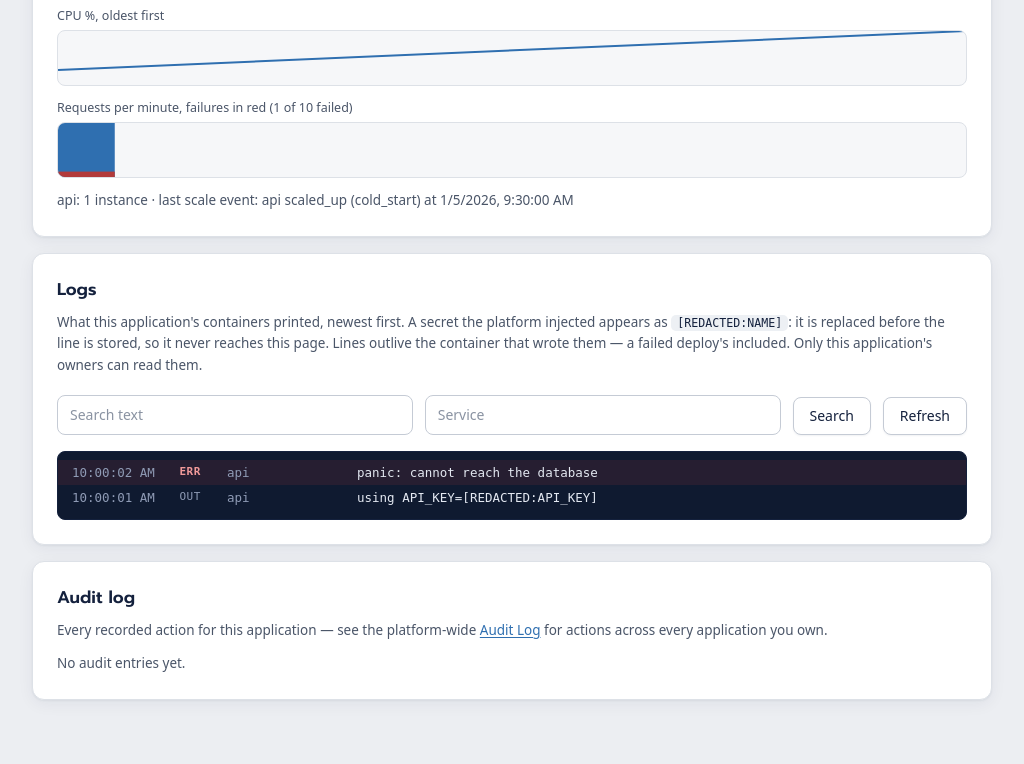
Test case: ApplicationDetail — Logs › asks the platform to search, rather than filtering the page it already has
(page scrolled)
Expected: the text "panic: cannot reach the database" is shown, [357,465,598,480]
Type "panic" into the field named "Search log text".
click(235, 415); type("panic")  # box [57,395,413,435]
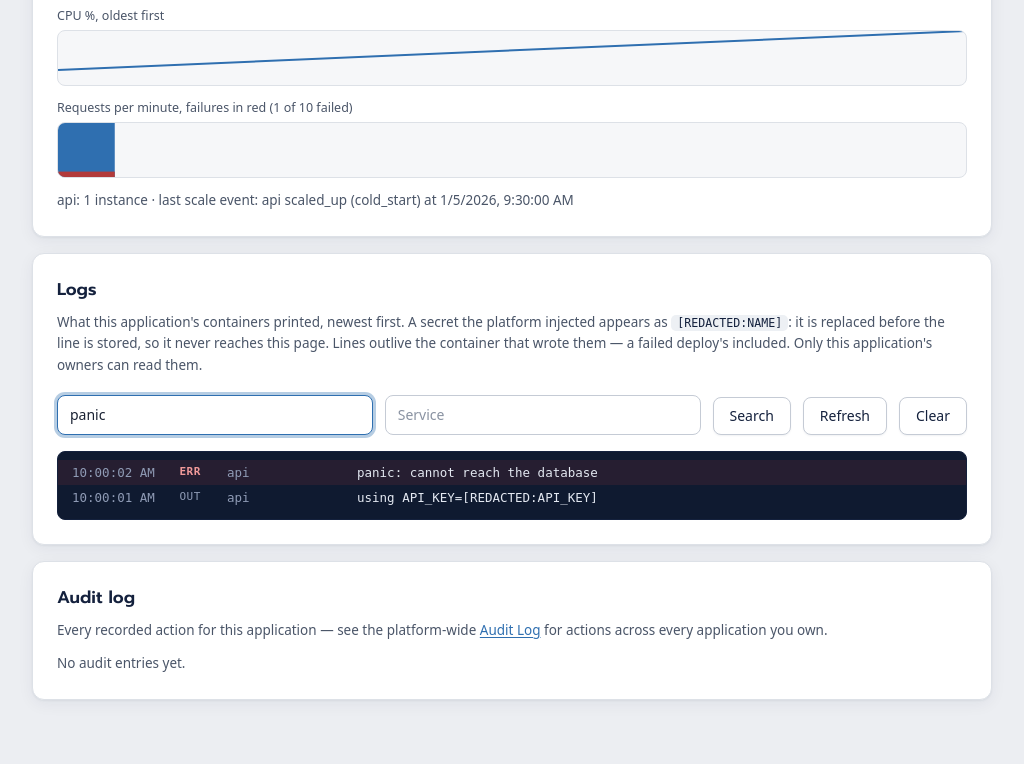
Click the button "Search".
click(752, 416)  # box [712,397,791,435]
(page scrolled)
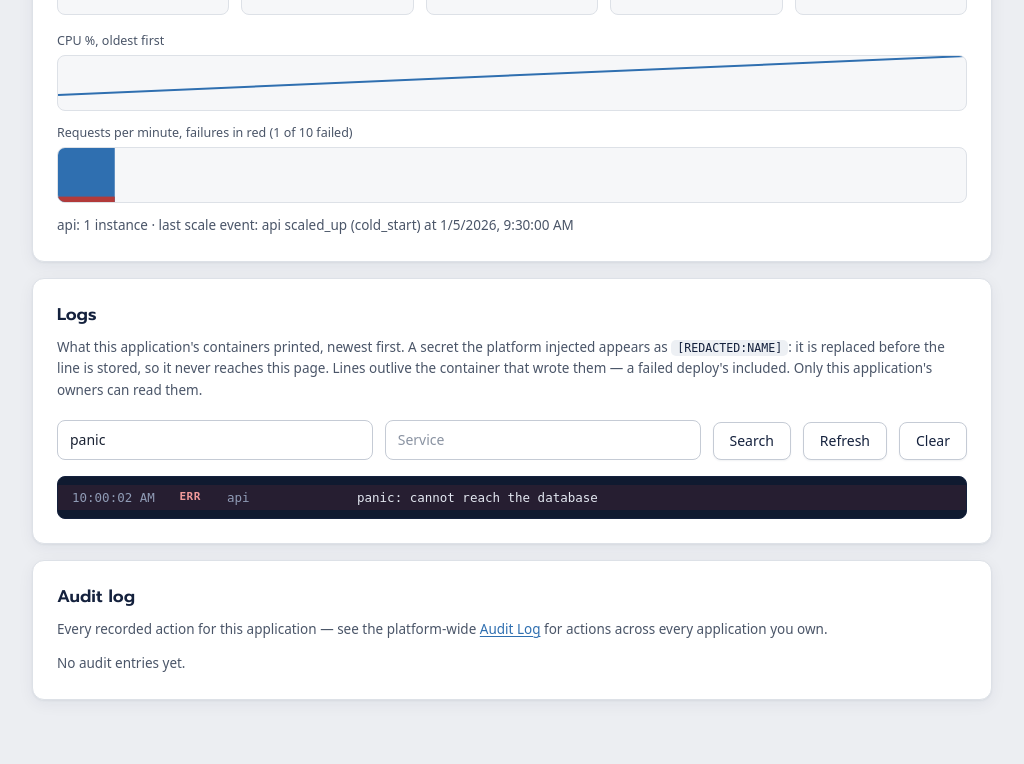
Expected: the text "using API_KEY=[REDACTED:API_KEY]" is gone
